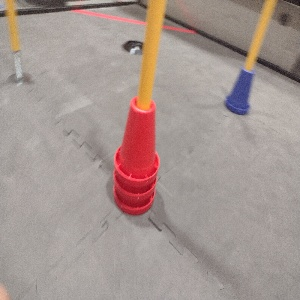Blue_1: (223, 67, 254, 116)
Red_3: (112, 93, 160, 215)
